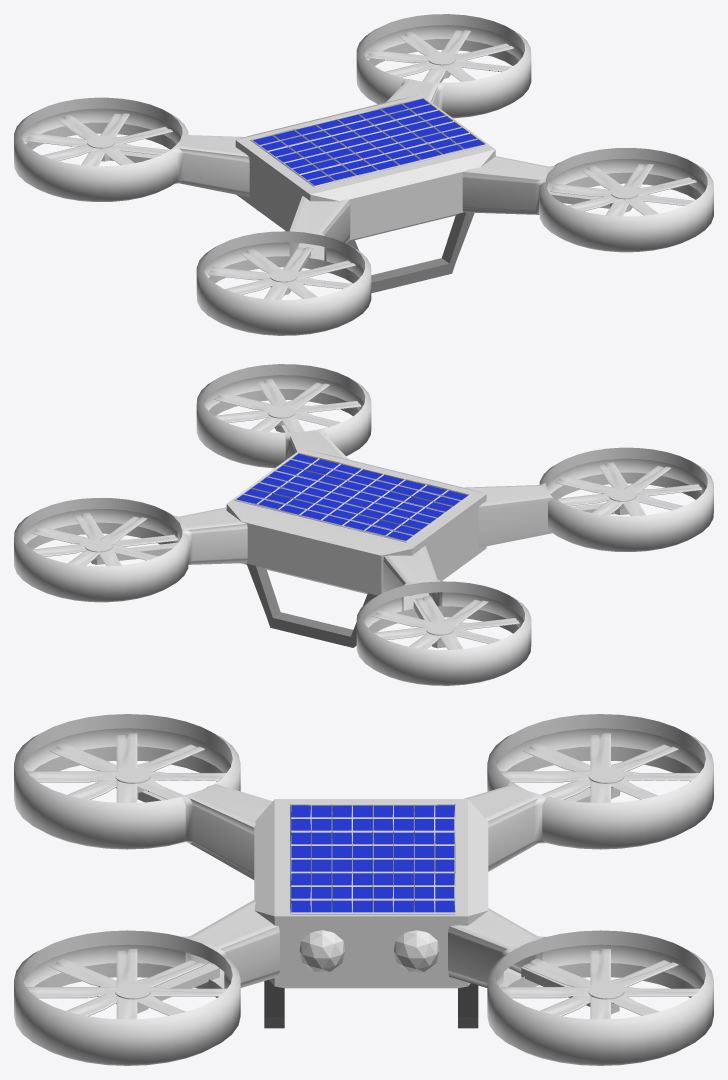
File: drone.glb
The picture shows the model from 3 angles, top to bottom: view 1: azimuth 30°, elevation 25°; view 2: azimuth 150°, elevation 25°; view 3: azimuth 270°, elevation 25°; orthographic projection. The views are drawn at different scales.
Parts seen in each view (by area): view 1: Cylinder.002, Cylinder, Cube.002, Cube.005, Cube; view 2: Cylinder.002, Cylinder, Cube.002, Cube.005, Cube; view 3: Cylinder.002, Cylinder, Cube.002, Cube, Cube.005, Icosphere, Icosphere.001.
Boxes of the visible parts, x1,y1,x2,y2 form: Cylinder.002: (14,14,713,335); Cylinder: (25,30,696,299); Cube.002: (250,97,486,187); Cube.005: (346,212,474,293); Cube: (101,72,632,295); Cylinder.002: (14,364,713,685); Cylinder: (31,379,702,649); Cube.002: (234,452,470,542); Cube.005: (246,564,377,647); Cube: (91,425,629,648); Cylinder.002: (14,714,713,1065); Cylinder: (27,733,699,1019); Cube.002: (290,803,455,914); Cube: (137,787,620,1014); Cube.005: (264,980,478,1028); Icosphere: (299,930,344,971); Icosphere.001: (394,930,439,971).
Size of the model in its own units: 6.07 by 1.31 by 5.75.
